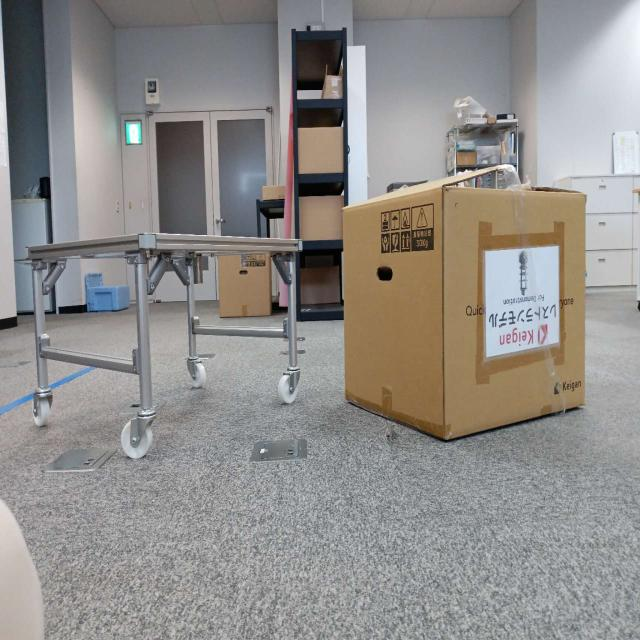box: (343, 172, 590, 444)
door: (142, 230, 298, 295)
side: (34, 236, 146, 372)
